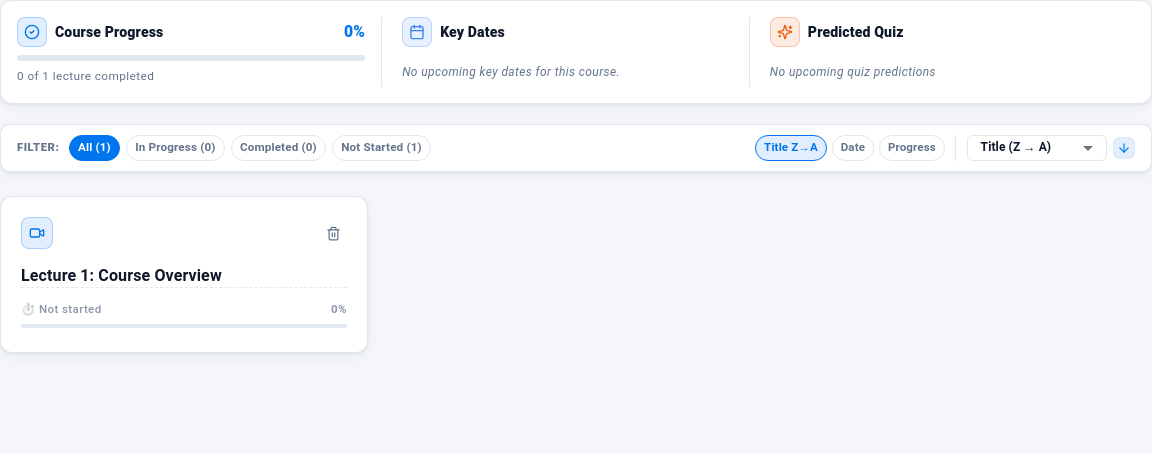
Test: CourseLectures › renders empty filtered state and allows resetting to all lectures
Note: Click Completed filter when no lecture is completed
Click the button with aria-label "Filter by Completed": (278, 148) [231,135,326,161]
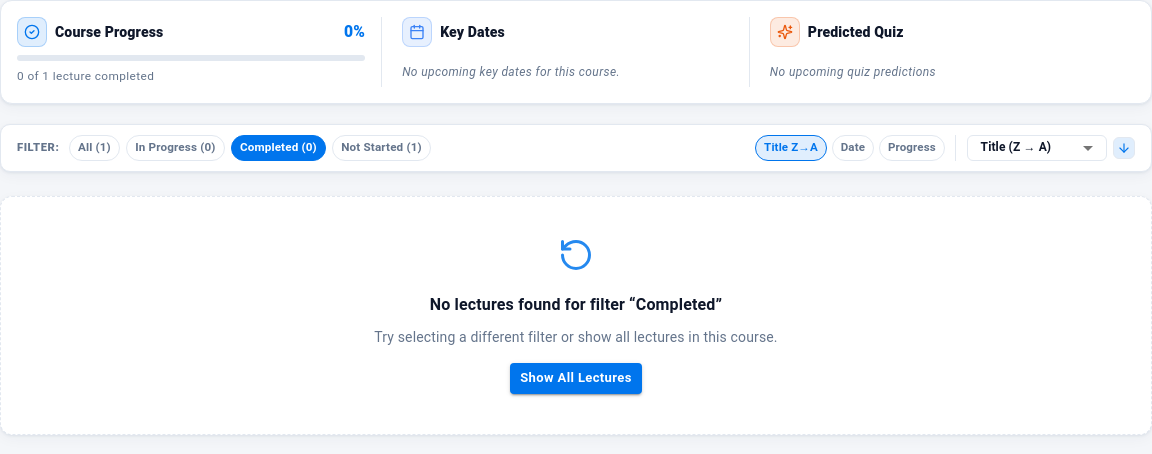
expect the heading "No lectures found for filter “Completed”" is shown: met, box [430,295,722,314]
expect the button "Show All Lectures" is shown: met
Note: Click Show All Lectures to reset filter
Click the button "Show All Lectures": (576, 378) [510,363,642,394]
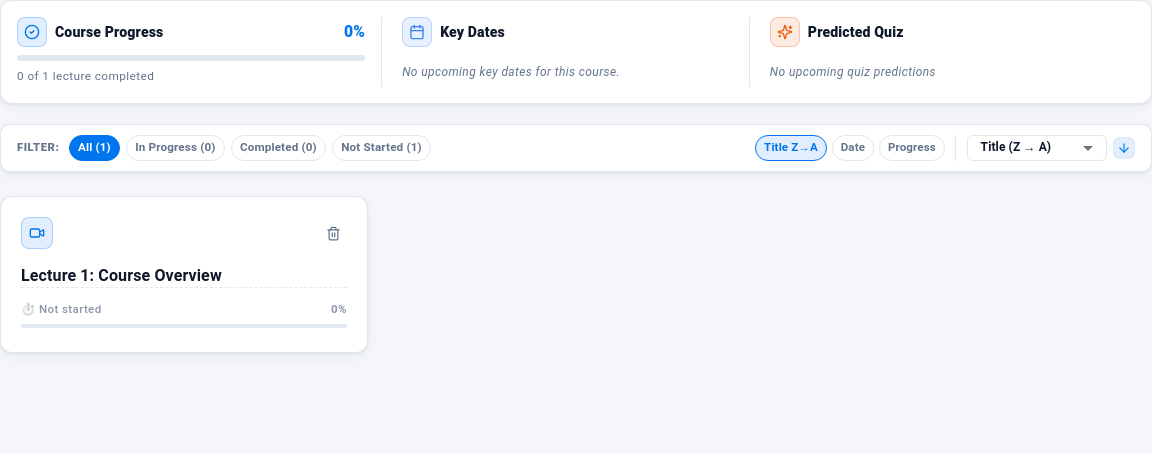
expect the heading "Lecture 1: Course Overview" is shown: met, box [21,266,222,285]
